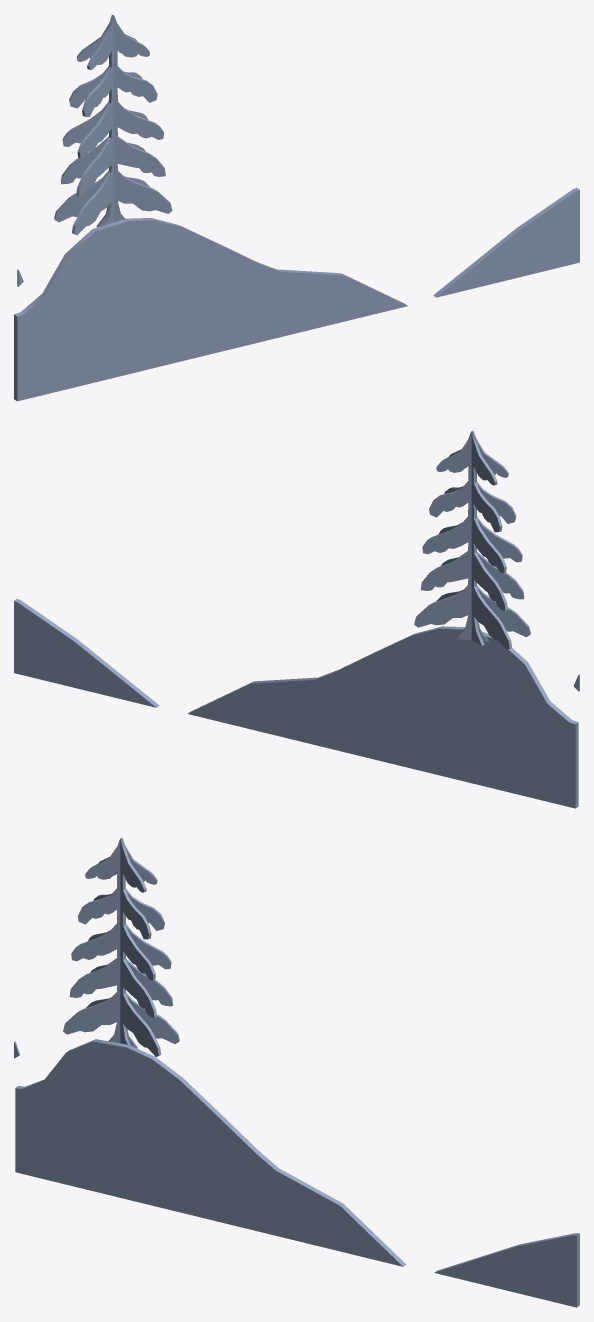
The model's file is frame_0115.glb.
3 views of the same model, one above another, from view 1: azimuth 30°, elevation 25°; view 2: azimuth 150°, elevation 25°; view 3: azimuth 330°, elevation 25° (orthographic).
Parts seen in each view (by area): view 1: export_trees_001.002; view 2: export_trees_001.002; view 3: export_trees_001.002.
Boxes of the visible parts, <box> form: export_trees_001.002: <box>14,15,579,401</box>; export_trees_001.002: <box>14,430,579,808</box>; export_trees_001.002: <box>14,837,579,1307</box>.
Bounding box in the file's own units: 0.4327 × 0.2619 × 0.0288.
